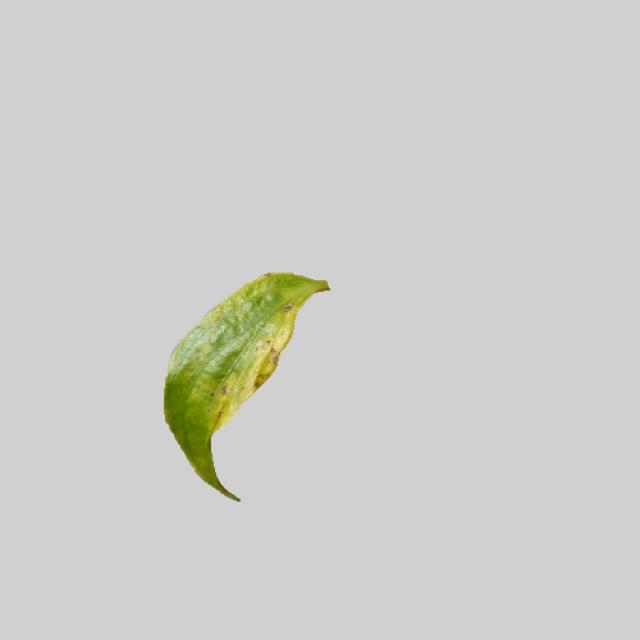yellow-mottle-virus: (148, 265, 333, 503)
